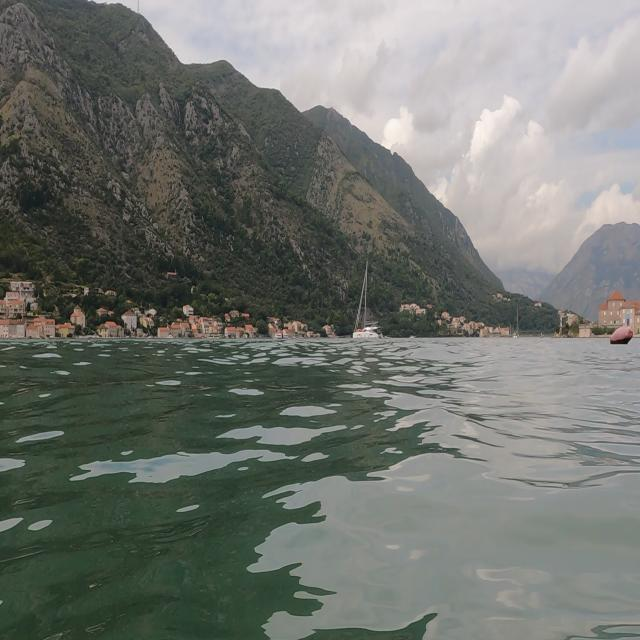boat: (349, 256, 384, 343)
buoy: (608, 321, 638, 358)
